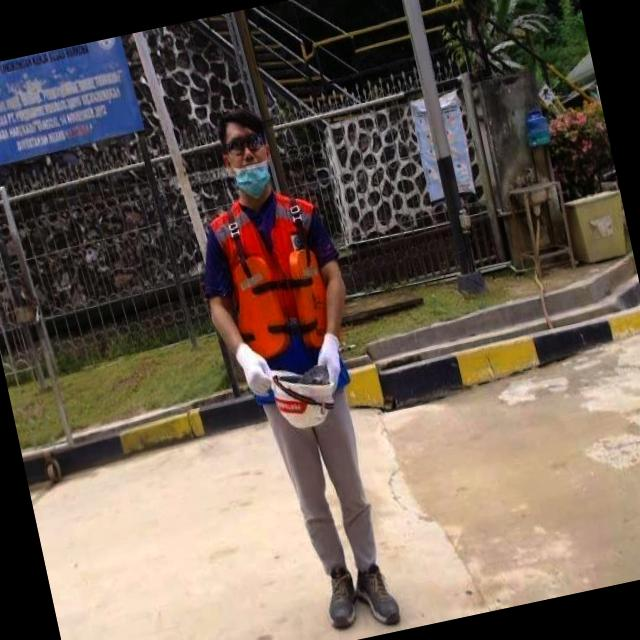vest: (208, 184, 354, 407)
